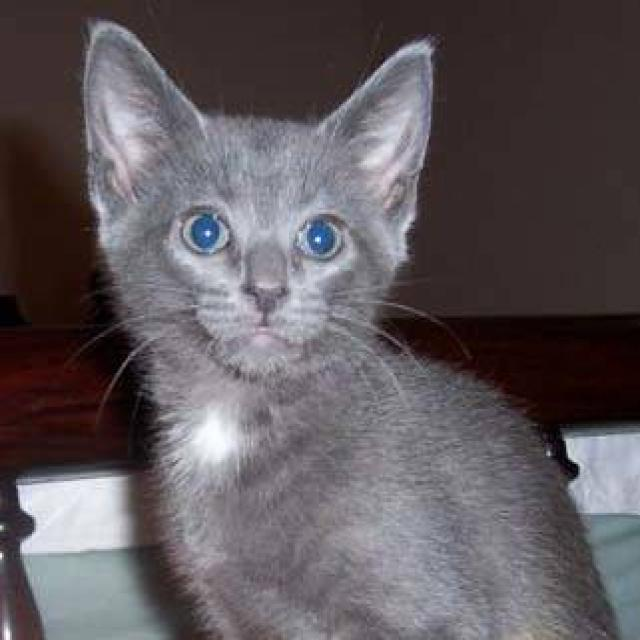cat: (72, 15, 638, 638)
